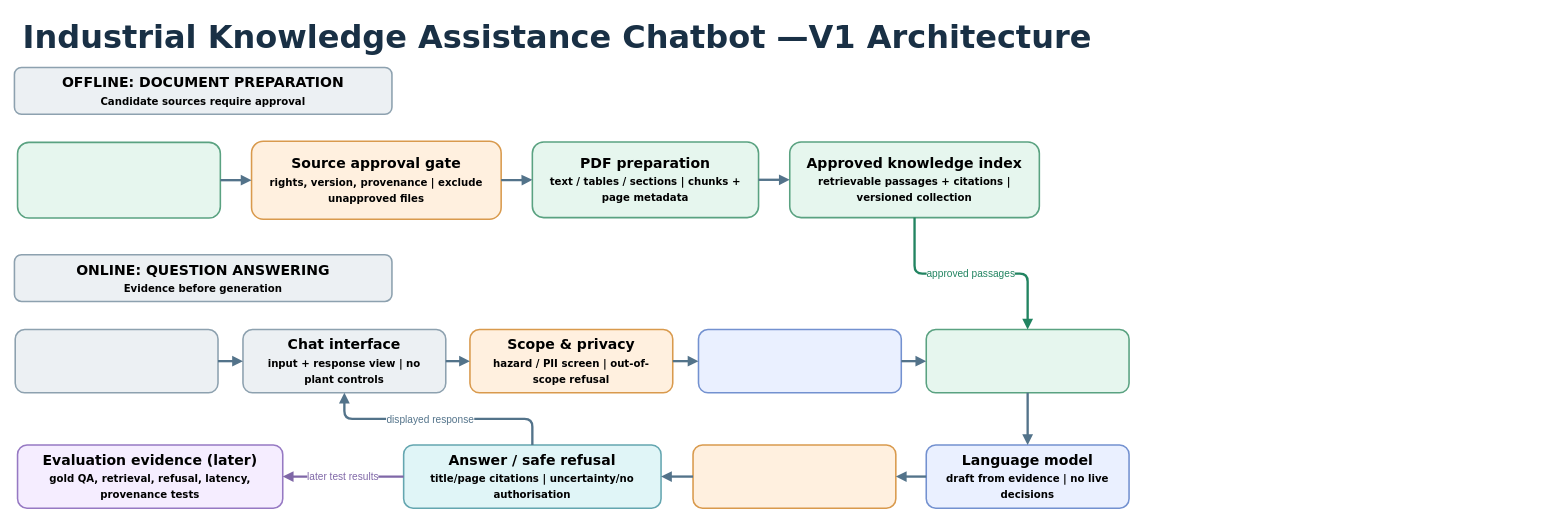
Image size: 1563x522. Some labels were removed from this diagram. Here are the shapes that lost their labels. From the top down, the centre of each, then its label:
At (118,179): "Candidate documents FIST 2-12 • 2-1 • 2-4 | official public URLs".
At (116,360): "Learner student / trainee | conceptual question".
At (799,360): "Query coordinator search + fallback | time-out handling".
At (1027,360): "Passage retriever top relevant chunks | source metadata".
At (794,476): "Citation & safety claim support check | answer / abstain".
